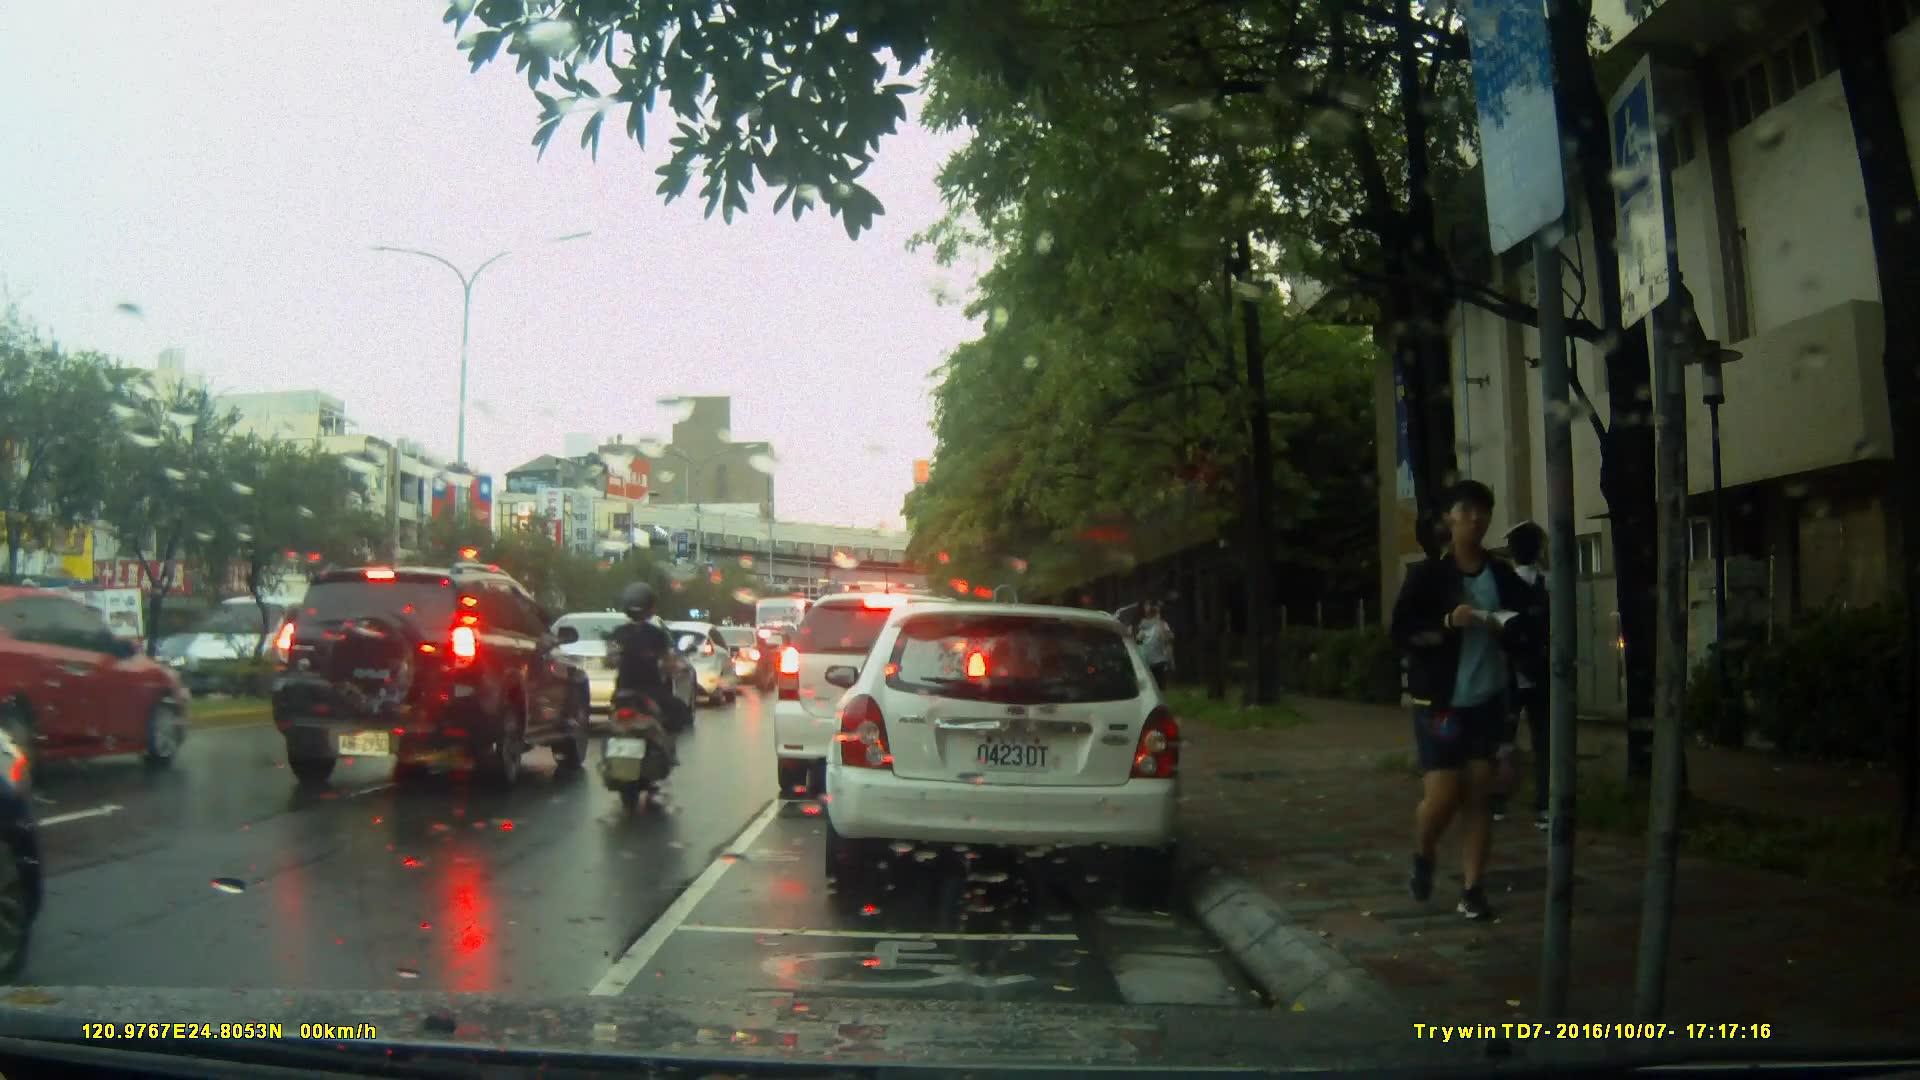pedestrian: (1393, 477, 1550, 924), (1490, 505, 1570, 827), (1127, 588, 1181, 730)
rider: (597, 579, 694, 809)
vehicle: (815, 593, 1201, 899), (262, 559, 592, 799), (771, 590, 995, 802), (1, 584, 189, 793), (516, 610, 695, 741), (698, 626, 768, 685)
